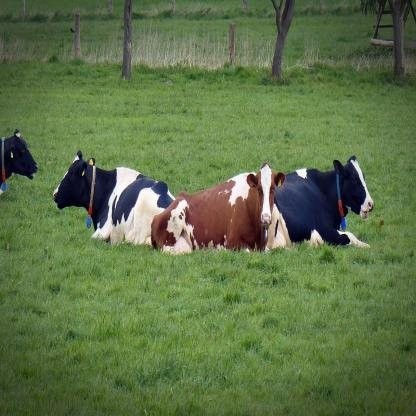cow: (153, 158, 285, 248), (53, 150, 176, 238), (277, 158, 372, 251), (0, 130, 35, 191)
